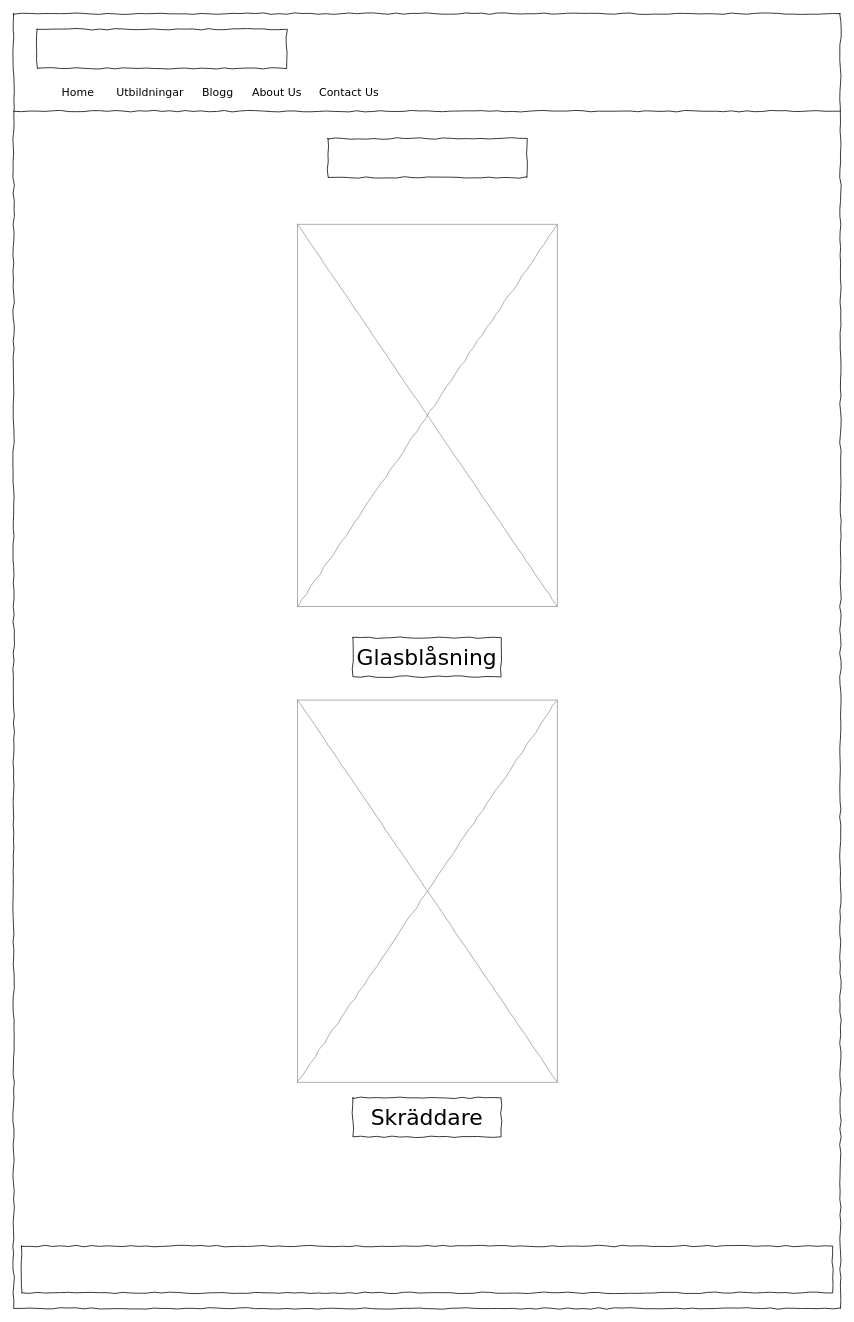
The diagram is 854 pixels wide and 1322 high, and some of its shapes have lost their labels. Here are the shapes that lost their labels. From the top down, the centre of each, then its label:
At point (161, 48): "Company Name".
At point (427, 157): "Våra utbildningar".
